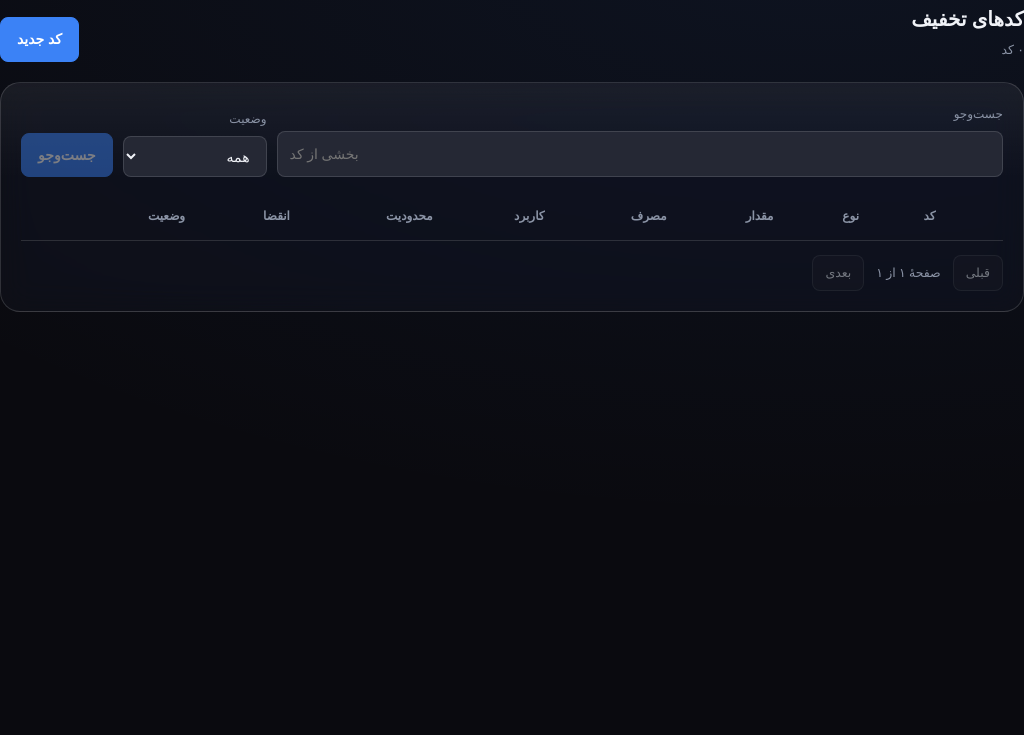
Scenario: a code says which family it belongs to › the form groups kinds by what they do and explains the chosen one
Click the button "کد جدید" at [39, 40], box [0,17,79,62]
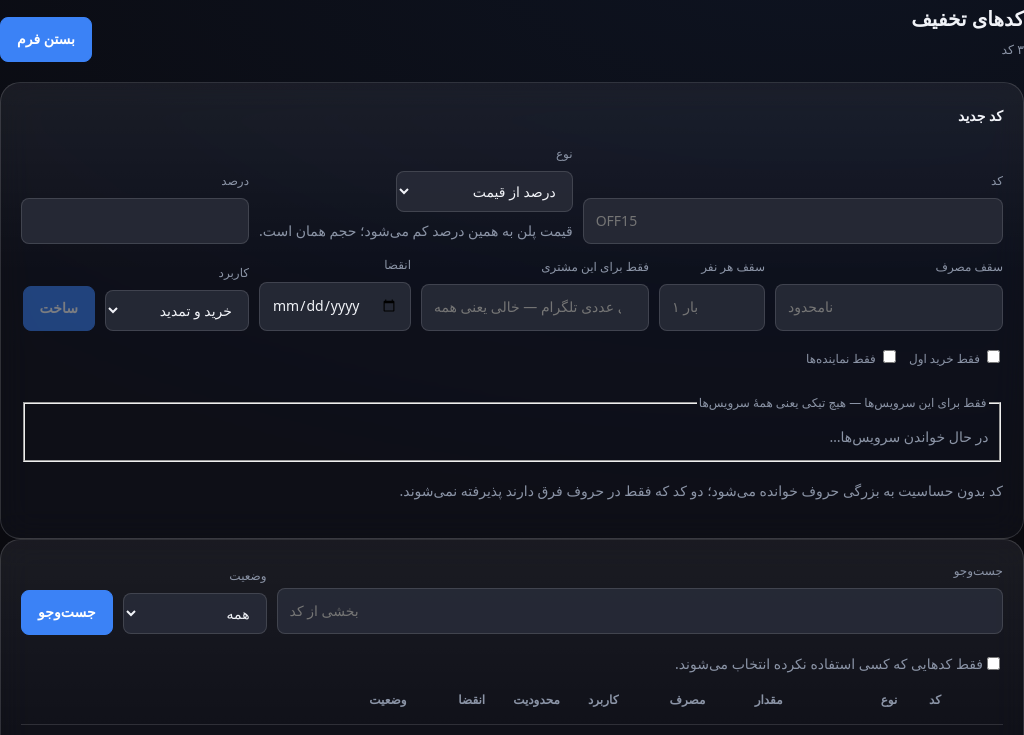
expect the text with test id "kind-hint" shows "قیمت پلن به همین درصد کم می‌شود": met, box [259,221,573,240]
Select "درصد اضافه به حجم" in the dropdown labelled "نوع" at [484, 192], box [396,171,573,212]
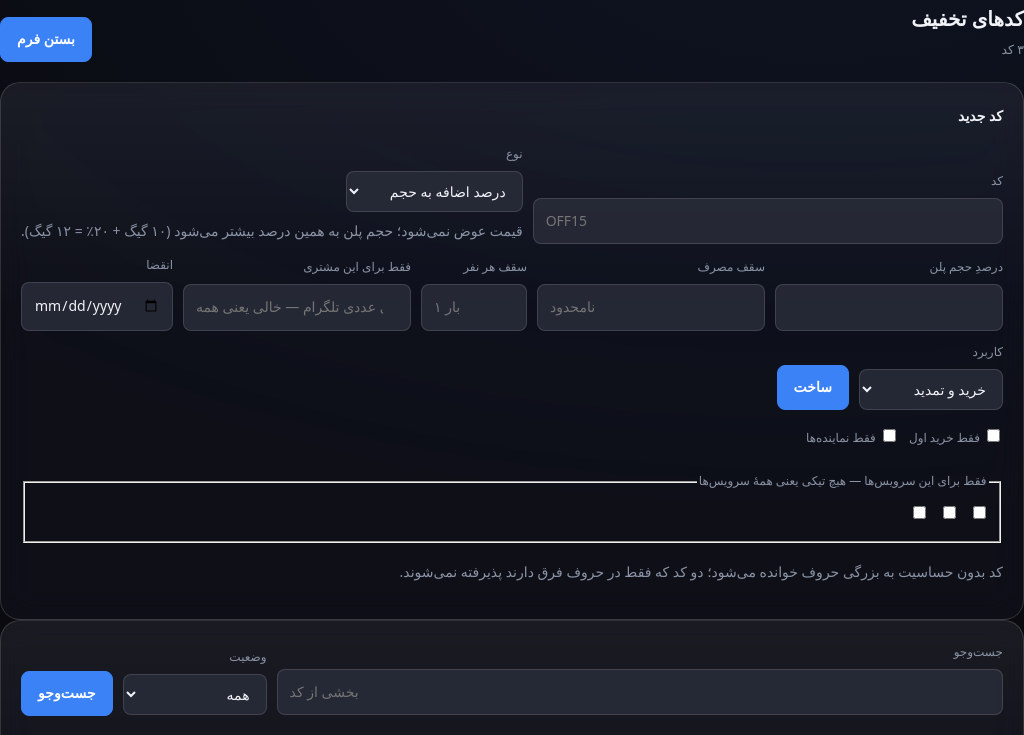
expect the text with test id "kind-hint" shows "قیمت عوض نمی‌شود": met, box [21,221,523,240]
expect the text with test id "kind-hint" shows "۱۲ گیگ": met, box [21,221,523,240]
